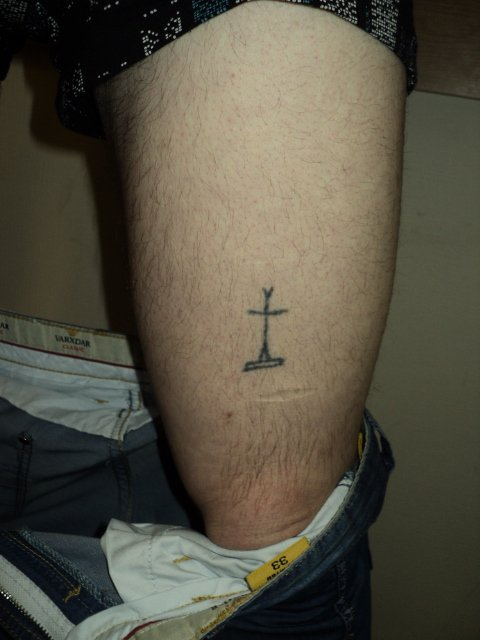tatu9_krest: (242, 283, 287, 374)
